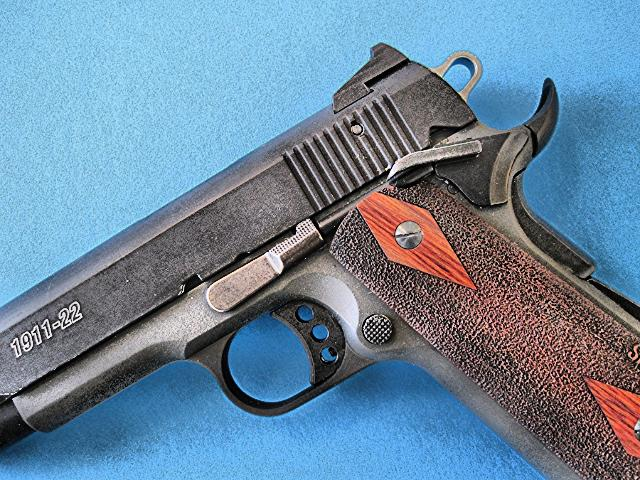pistol: (0, 39, 638, 476)
